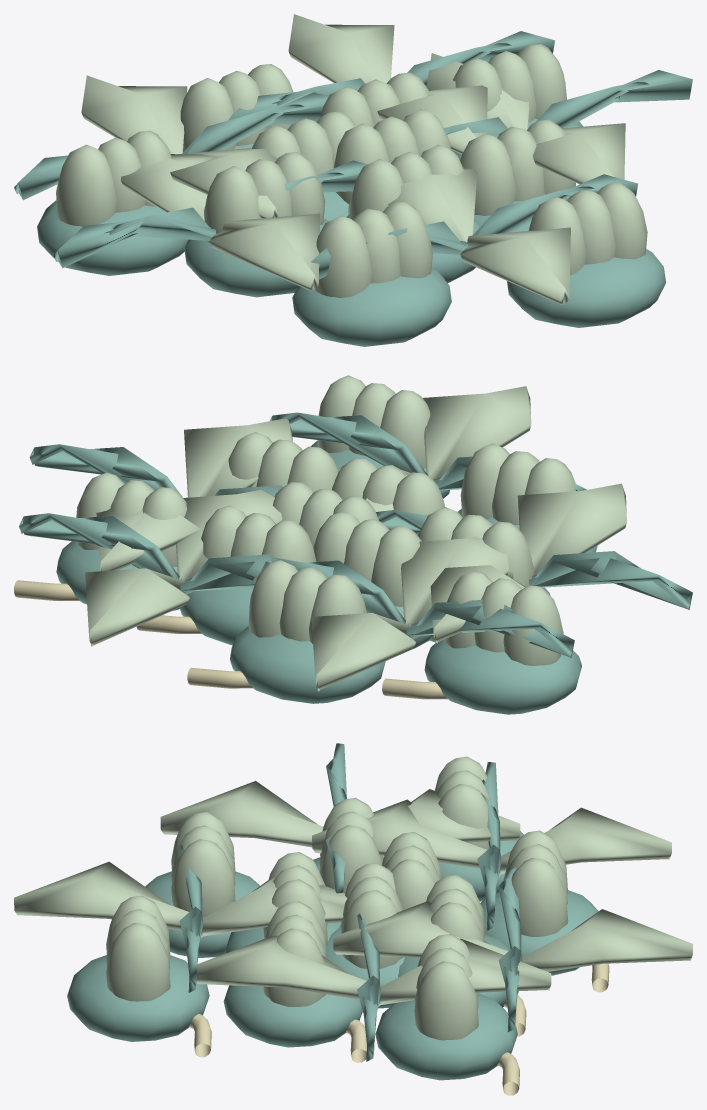
Rendered from bio_acid_mat_10_far.glb.
The picture shows the model from 3 angles, top to bottom: view 1: azimuth 30°, elevation 25°; view 2: azimuth 150°, elevation 25°; view 3: azimuth 270°, elevation 25°; orthographic projection. The views are drawn at different scales.
Visible parts, largest first — view 1: Low buttress leaf.009, Low buttress leaf.013, Low buttress leaf.017, Microbial cushion.007, Reaction vesicle.021, Low buttress leaf.005, Microbial cushion.010, Reaction vesicle.027, Reaction vesicle.030, Reaction vesicle.015, Reaction vesicle.012, Low buttress leaf.001 (+15 smaller); view 2: Low buttress leaf.005, Low buttress leaf.013, Low buttress leaf.017, Microbial cushion.009, Low buttress leaf.001, Low buttress leaf.009, Reaction vesicle.018, Low buttress leaf.012, Microbial cushion.006, Reaction vesicle.021, Reaction vesicle.027, Reaction vesicle.003 (+18 smaller); view 3: Low buttress leaf.013, Low buttress leaf.001, Low buttress leaf.009, Low buttress leaf.005, Low buttress leaf.017, Microbial cushion.008, Microbial cushion.010, Reaction vesicle.030, Microbial cushion.005, Reaction vesicle.024, Reaction vesicle.018, Reaction vesicle.021 (+21 smaller).
Part boxes in pixels (left/top/right/bottom): Low buttress leaf.009: left=388, top=161, right=570, bottom=305; Low buttress leaf.013: left=288, top=14, right=487, bottom=154; Low buttress leaf.017: left=121, top=154, right=320, bottom=291; Microbial cushion.007: left=292, top=268, right=451, bottom=346; Reaction vesicle.021: left=315, top=201, right=432, bottom=297; Low buttress leaf.005: left=81, top=75, right=279, bottom=218; Microbial cushion.010: left=507, top=249, right=665, bottom=327; Reaction vesicle.027: left=56, top=130, right=171, bottom=226; Reaction vesicle.030: left=528, top=182, right=647, bottom=275; Reaction vesicle.015: left=460, top=119, right=575, bottom=215; Reaction vesicle.012: left=204, top=152, right=325, bottom=242; Low buttress leaf.001: left=426, top=53, right=625, bottom=184; Low buttress leaf.005: left=311, top=536, right=508, bottom=691; Low buttress leaf.013: left=85, top=489, right=282, bottom=646; Low buttress leaf.017: left=430, top=483, right=626, bottom=643; Microbial cushion.009: left=424, top=640, right=581, bottom=714; Low buttress leaf.001: left=96, top=418, right=292, bottom=571; Low buttress leaf.009: left=334, top=386, right=531, bottom=511; Reaction vesicle.018: left=248, top=560, right=366, bottom=643; Low buttress leaf.012: left=19, top=513, right=278, bottom=594; Microbial cushion.006: left=230, top=626, right=385, bottom=703; Reaction vesicle.021: left=460, top=443, right=575, bottom=524; Reaction vesicle.027: left=444, top=570, right=563, bottom=665; Reaction vesicle.003: left=313, top=511, right=421, bottom=606; Low buttress leaf.013: left=333, top=901, right=692, bottom=971; Low buttress leaf.001: left=196, top=935, right=551, bottom=1006; Low buttress leaf.009: left=14, top=861, right=347, bottom=937; Low buttress leaf.005: left=312, top=799, right=671, bottom=875; Low buttress leaf.017: left=160, top=781, right=520, bottom=847; Microbial cushion.008: left=375, top=993, right=517, bottom=1080; Microbial cushion.010: left=67, top=955, right=209, bottom=1041; Reaction vesicle.030: left=106, top=895, right=170, bottom=1001; Microbial cushion.005: left=223, top=963, right=362, bottom=1047; Reaction vesicle.024: left=414, top=934, right=478, bottom=1040; Reaction vesicle.018: left=503, top=830, right=568, bottom=936; Reaction vesicle.021: left=171, top=811, right=235, bottom=917.
Bounding box in the file's own units: 2.22 × 0.3999 × 2.09.
